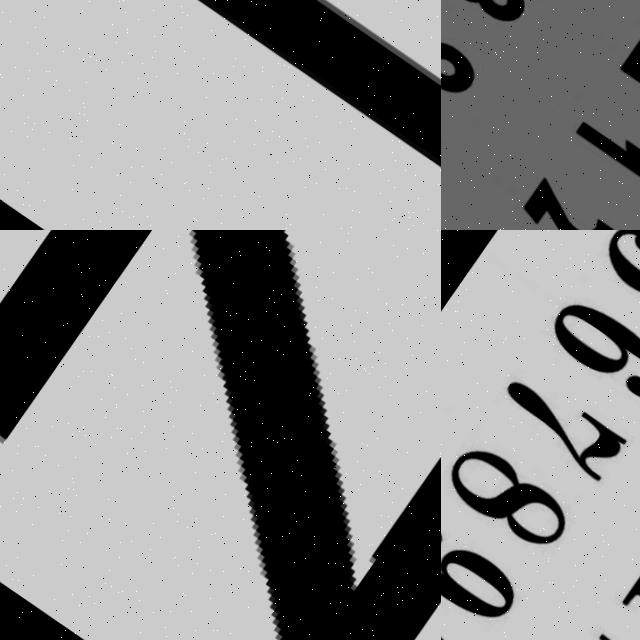0: (441, 573, 502, 640)
1: (569, 102, 640, 190)
2: (510, 162, 639, 230)
5: (572, 230, 640, 348)
6: (524, 275, 640, 415)
7: (475, 348, 640, 498)
8: (441, 432, 598, 575), (441, 0, 547, 37)
9: (441, 502, 555, 640), (441, 2, 495, 105)
L: (28, 0, 441, 198)
Z: (0, 230, 441, 640)
